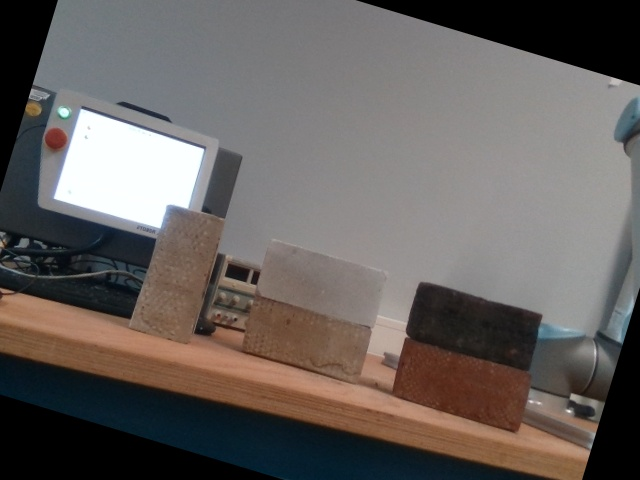brick: (388, 336, 532, 433), (130, 204, 226, 347), (404, 280, 543, 369), (253, 240, 389, 329), (240, 298, 370, 385)
